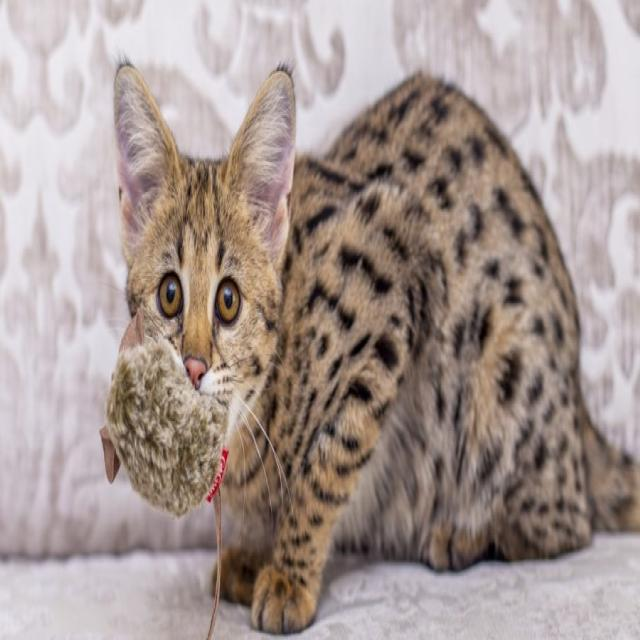Savannah: (100, 51, 640, 640)
